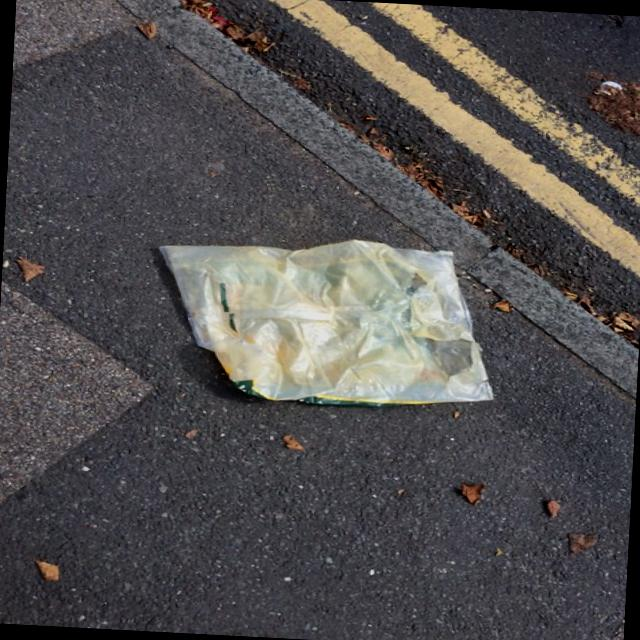Trash: (148, 224, 504, 414)
